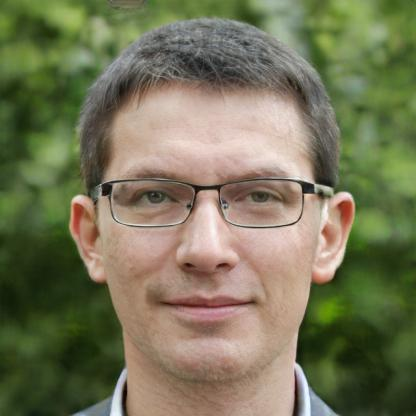glasses: (99, 169, 321, 231)
